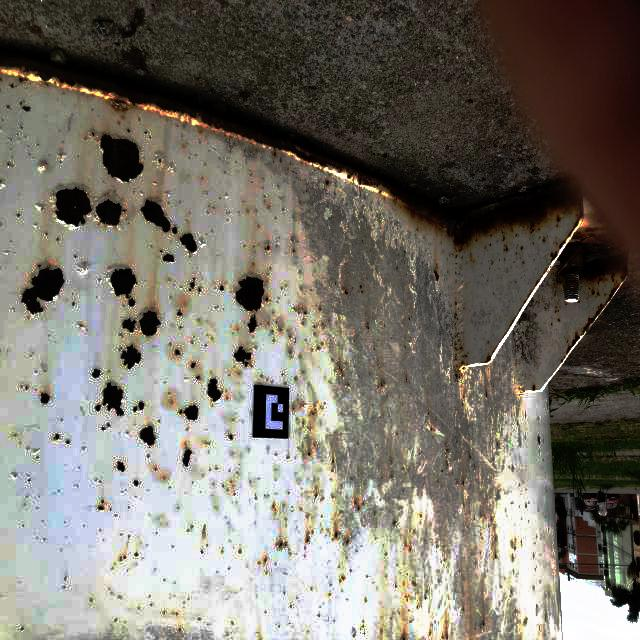Corrosion: (0, 52, 583, 264), (556, 190, 630, 364), (478, 267, 552, 364), (50, 183, 128, 230), (84, 130, 145, 184), (20, 261, 65, 317), (106, 266, 138, 307), (122, 306, 162, 338), (234, 276, 266, 313), (141, 196, 172, 233), (102, 382, 125, 417), (120, 343, 142, 370), (232, 346, 252, 369), (179, 232, 197, 256), (453, 356, 468, 383), (207, 378, 223, 403), (140, 425, 156, 449), (179, 403, 198, 422), (182, 447, 193, 468), (247, 314, 257, 335), (555, 276, 565, 291), (40, 392, 50, 405), (162, 253, 174, 263), (336, 363, 344, 377), (91, 369, 101, 379), (432, 269, 440, 281), (117, 461, 125, 473), (37, 160, 47, 169), (115, 116, 123, 126), (400, 629, 407, 640), (377, 380, 385, 389), (138, 401, 145, 411), (189, 281, 196, 291), (518, 388, 525, 398), (171, 225, 177, 235), (21, 106, 31, 112), (470, 252, 475, 264), (95, 404, 102, 412), (263, 244, 270, 252), (480, 619, 485, 630), (53, 433, 59, 441), (503, 244, 509, 252), (174, 349, 180, 356), (176, 310, 183, 316), (7, 162, 14, 168), (133, 480, 139, 487), (117, 332, 123, 339), (309, 410, 316, 416), (278, 541, 283, 549), (454, 313, 459, 321), (555, 306, 560, 314), (189, 362, 195, 368), (521, 538, 524, 550), (545, 614, 548, 626), (98, 506, 105, 511), (531, 384, 536, 391), (366, 322, 370, 330), (306, 536, 310, 544), (228, 434, 233, 440), (195, 375, 200, 381), (537, 435, 540, 445), (133, 406, 137, 413), (542, 236, 546, 243), (325, 178, 329, 185), (101, 426, 106, 431), (9, 83, 14, 88), (255, 148, 260, 153), (454, 254, 459, 259), (335, 531, 338, 539), (291, 170, 297, 174), (321, 322, 325, 328), (413, 582, 417, 588), (445, 633, 448, 640), (491, 258, 494, 265), (405, 376, 408, 383), (66, 440, 70, 445), (6, 105, 10, 110), (100, 499, 104, 504), (316, 346, 320, 351), (519, 246, 523, 251), (219, 286, 223, 291), (344, 290, 348, 295), (303, 310, 307, 315), (77, 324, 82, 328), (23, 386, 27, 391), (314, 494, 318, 499), (340, 578, 345, 582), (279, 157, 282, 163), (357, 505, 360, 511), (354, 499, 357, 505), (469, 454, 472, 460), (265, 296, 268, 302), (481, 514, 484, 520), (107, 423, 111, 427), (134, 553, 138, 557), (459, 346, 463, 350), (125, 128, 129, 132), (263, 560, 267, 564), (293, 308, 297, 312), (20, 101, 23, 106), (502, 236, 505, 241), (359, 284, 362, 289), (159, 249, 162, 253), (27, 479, 31, 482), (308, 452, 311, 456), (287, 167, 290, 171), (445, 447, 448, 451), (462, 480, 464, 486), (197, 288, 200, 292), (71, 302, 74, 306), (558, 318, 561, 322), (332, 459, 334, 464), (455, 302, 457, 307), (578, 299, 580, 304), (390, 460, 393, 463), (442, 636, 445, 639), (188, 288, 191, 291), (381, 476, 383, 480), (446, 463, 448, 467), (430, 427, 432, 431), (575, 298, 579, 300), (547, 403, 548, 410), (298, 311, 300, 314), (391, 475, 393, 478), (437, 480, 439, 483), (525, 412, 526, 418), (517, 423, 519, 426), (604, 293, 606, 296), (402, 468, 404, 470), (290, 162, 291, 165), (261, 385, 263, 386)
